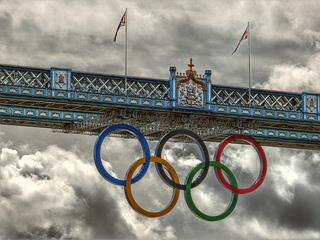Olympic_rings: (94, 119, 271, 222)
